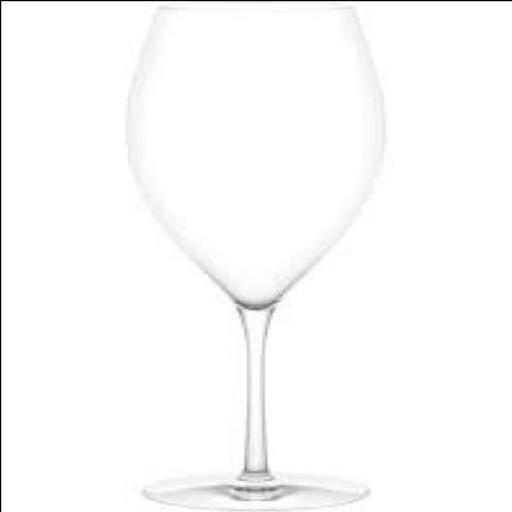glass: (117, 1, 384, 511)
